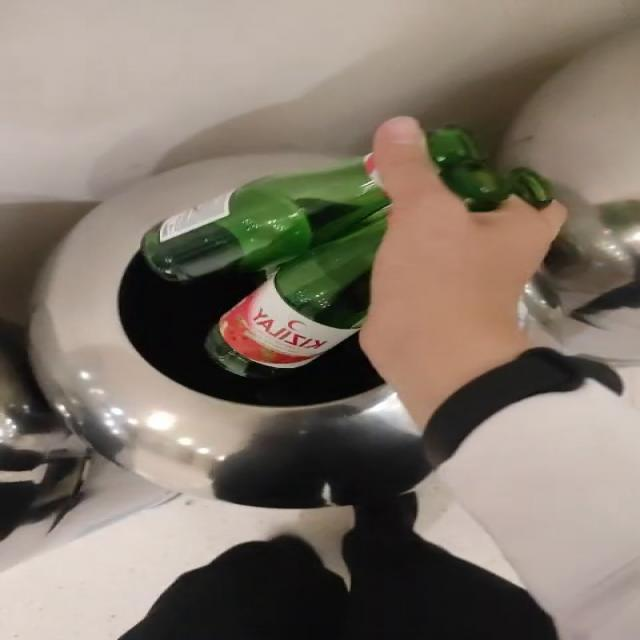Glass: (141, 156, 389, 378), (141, 159, 388, 280), (428, 125, 553, 211)
